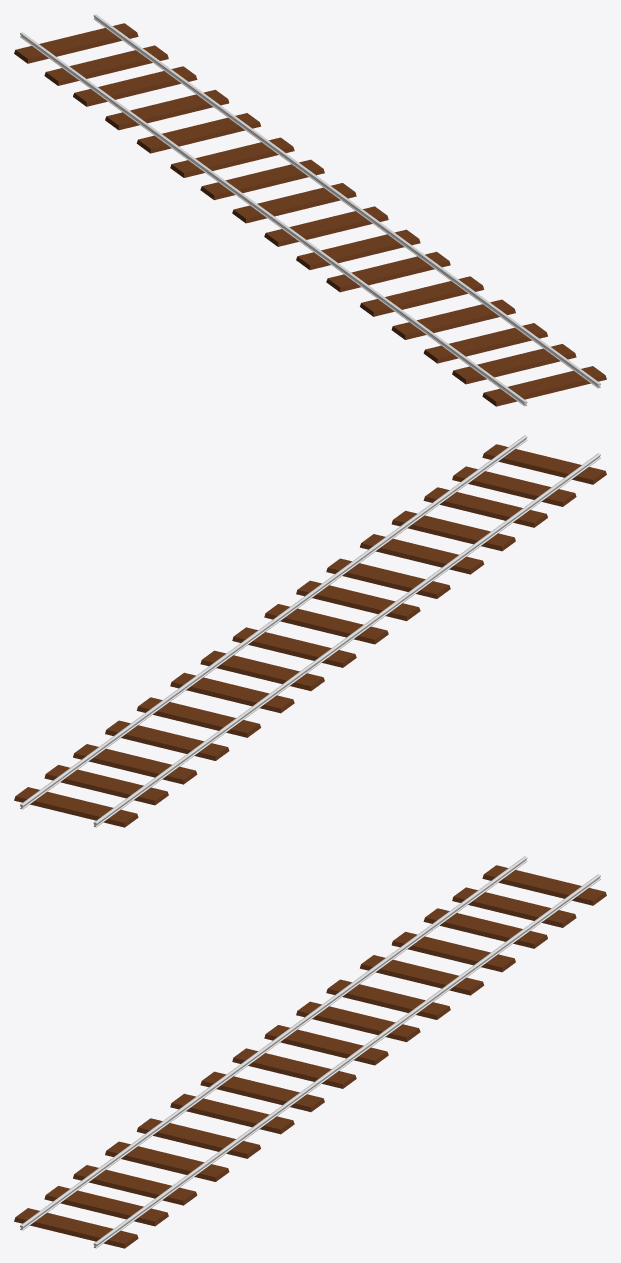
Rendered from Pruga.fbx.
3 renders of one model, top to bottom at view 1: azimuth 30°, elevation 25°; view 2: azimuth 150°, elevation 25°; view 3: azimuth 330°, elevation 25°, orthographic.
Parts seen in each view (by area): view 1: Rails; view 2: Rails; view 3: Rails.
Part boxes in pixels (x1,y1,x2,y2): Rails: [14, 14, 606, 406]; Rails: [14, 435, 606, 827]; Rails: [14, 856, 606, 1248].
Bounding box in the file's own units: 1012 × 75.05 × 7974.
